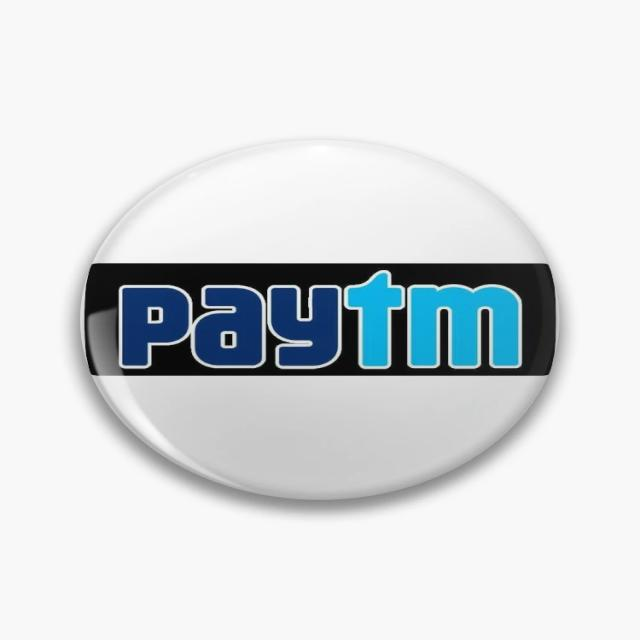fully_visible: (112, 269, 529, 374)
